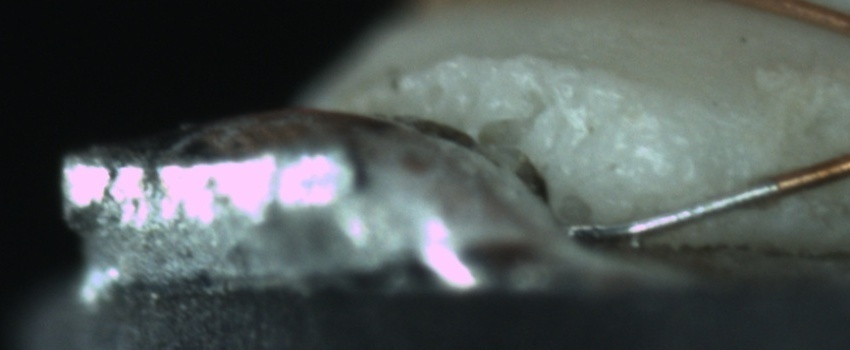TS: (568, 181, 782, 240)
